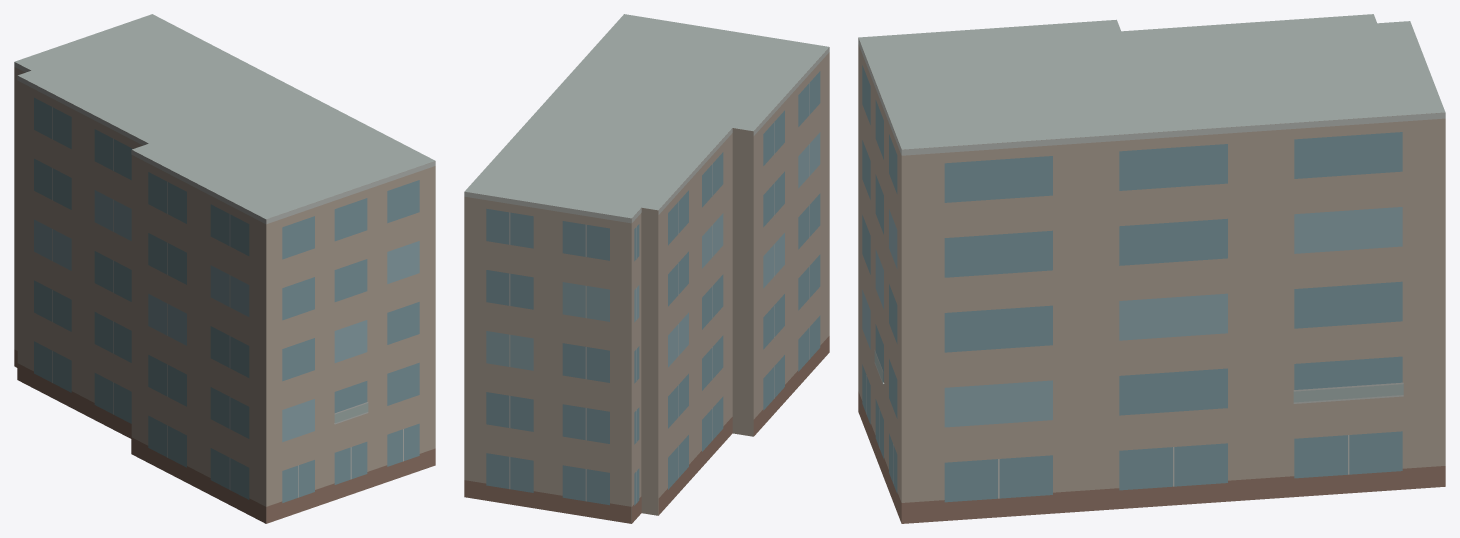
The model's file is survey-upis-32609848.glb.
3 renders of one model, left to right at view 1: azimuth 30°, elevation 25°; view 2: azimuth 150°, elevation 25°; view 3: azimuth 270°, elevation 25°, orthographic. The views are drawn at different scales.
Visible parts, largest first — view 1: survey-upis-32609848.tmp; view 2: survey-upis-32609848.tmp; view 3: survey-upis-32609848.tmp.
Boxes of the visible parts, x1,y1,x2,y2 form: survey-upis-32609848.tmp: [14, 14, 435, 523]; survey-upis-32609848.tmp: [464, 14, 829, 523]; survey-upis-32609848.tmp: [858, 14, 1445, 523].
Bounding box in the file's own units: 11.59 × 14.9 × 21.2.
